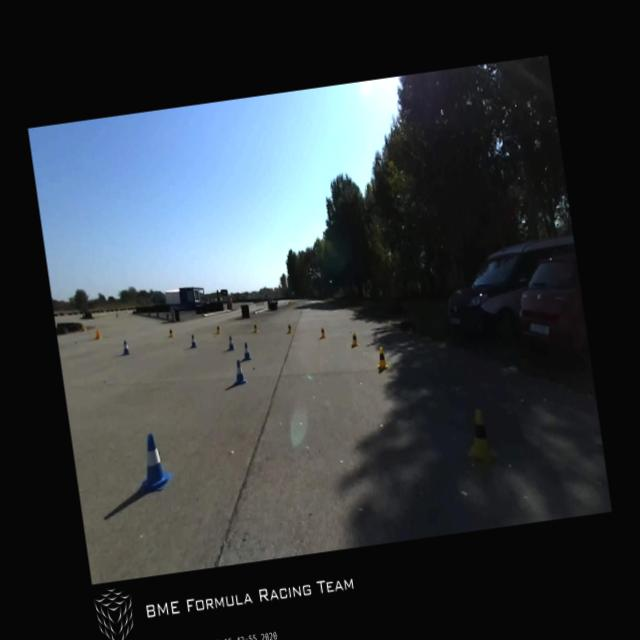blue_cone: (131, 430, 176, 494), (231, 360, 247, 386), (240, 342, 252, 362), (120, 340, 130, 356), (226, 334, 235, 350), (190, 335, 198, 349)
yellow_cone: (463, 408, 498, 466), (375, 345, 389, 371), (349, 331, 358, 347), (319, 326, 326, 340), (286, 322, 294, 334), (252, 322, 259, 334), (168, 327, 175, 339), (216, 324, 220, 334)
